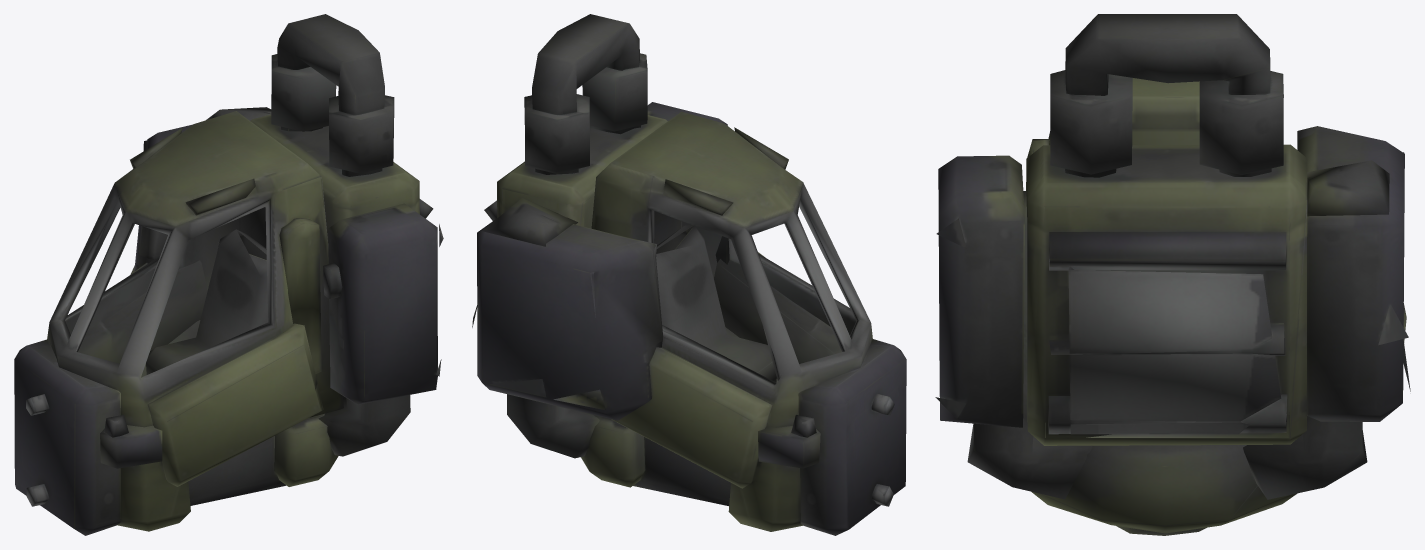
The model's file is Mech_Cockpit2.glb.
The picture shows the model from 3 angles, left to right: view 1: azimuth 30°, elevation 25°; view 2: azimuth 150°, elevation 25°; view 3: azimuth 270°, elevation 25°; orthographic projection. The views are drawn at different scales.
Size of the model in its own units: 0.902 by 0.9965 by 0.7858.
Materials: 1 (1 with a texture image).
